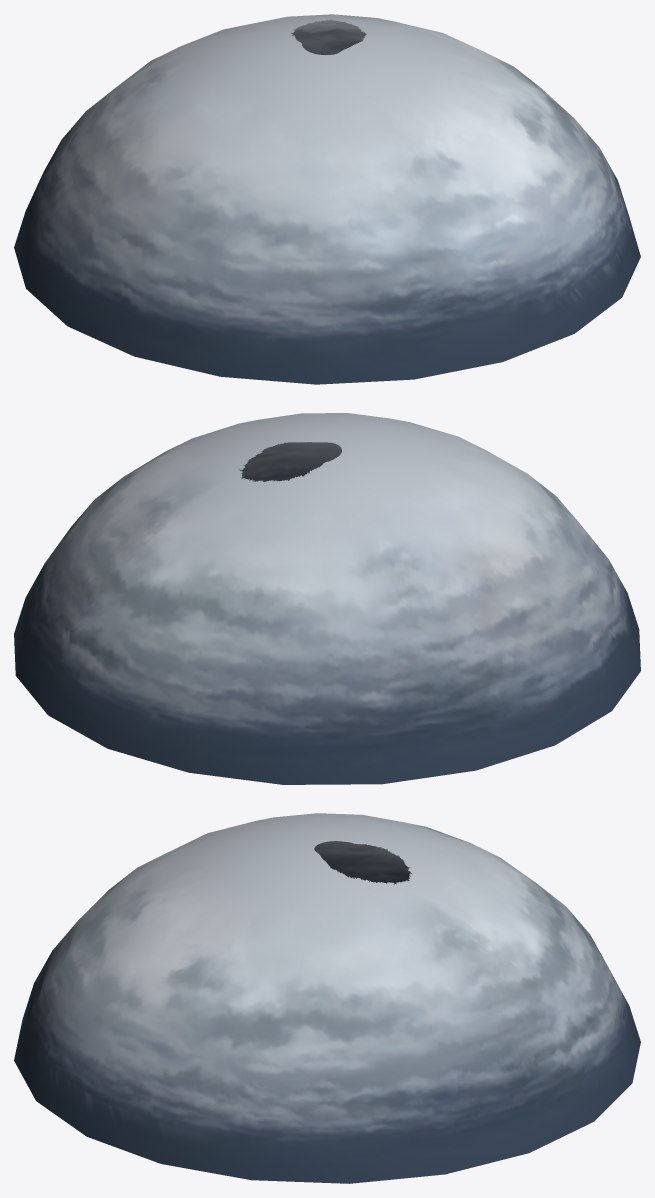
Rendered from sb_obj_sky_Cloudy_Noon.fbx.
3 views of the same model, one above another, from view 1: azimuth 30°, elevation 25°; view 2: azimuth 150°, elevation 25°; view 3: azimuth 270°, elevation 25° (orthographic).
Visible parts, largest first — view 1: sky; view 2: sky; view 3: sky.
Part boxes in pixels (x1,y1,x2,y2): sky: (14,14,640,384); sky: (14,413,640,784); sky: (14,813,640,1183).
Size of the model in its own units: 985 by 356 by 985.
